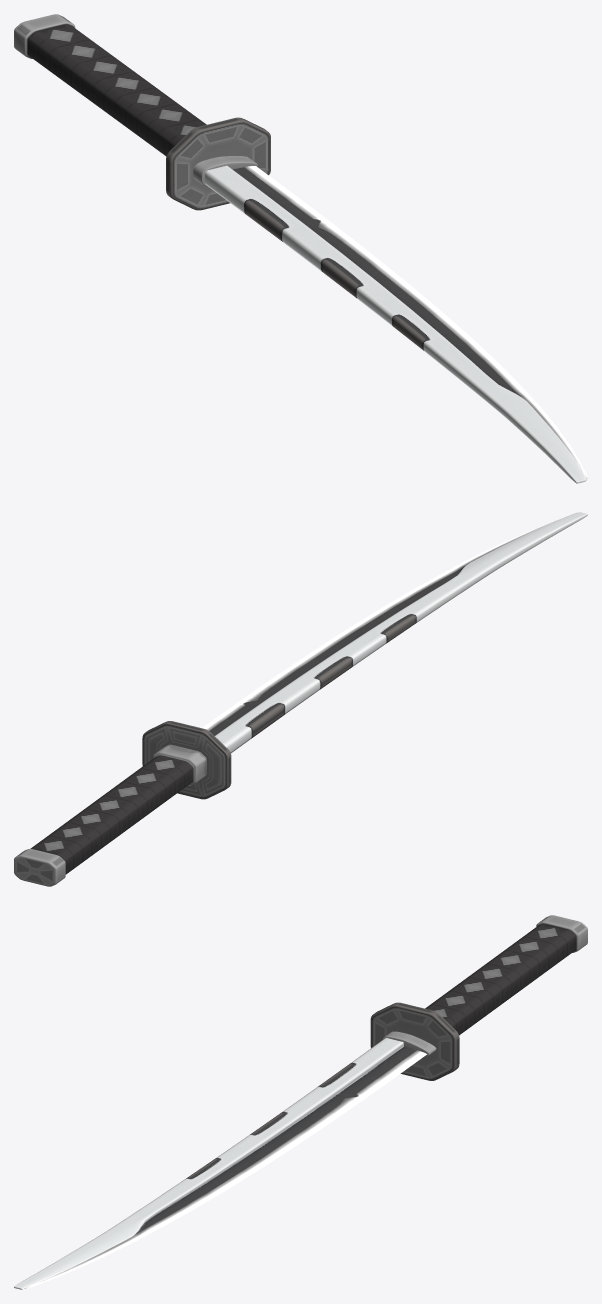
Rendered from MeleeKatana01_1.FBX.
The picture shows the model from 3 angles, top to bottom: view 1: azimuth 30°, elevation 25°; view 2: azimuth 150°, elevation 25°; view 3: azimuth 330°, elevation 25°; orthographic projection. The views are drawn at different scales.
Parts seen in each view (by area): view 1: MeleeKatana01_1; view 2: MeleeKatana01_1; view 3: MeleeKatana01_1.
Boxes of the visible parts, x1,y1,x2,y2 form: MeleeKatana01_1: (14, 14, 587, 483); MeleeKatana01_1: (14, 512, 587, 886); MeleeKatana01_1: (14, 915, 587, 1289).
Size of what is drawn, in the model's own units: 0.1363 by 0.096 by 1.29.
